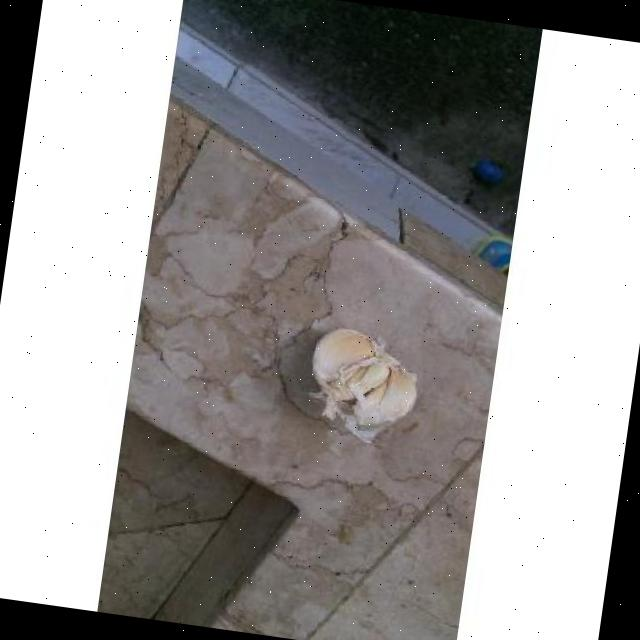garlic: (312, 328, 416, 442)
